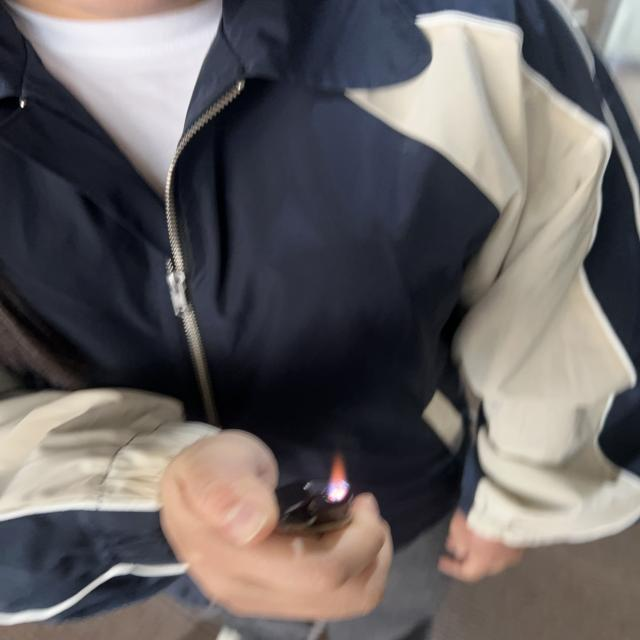fire: (324, 451, 350, 504)
